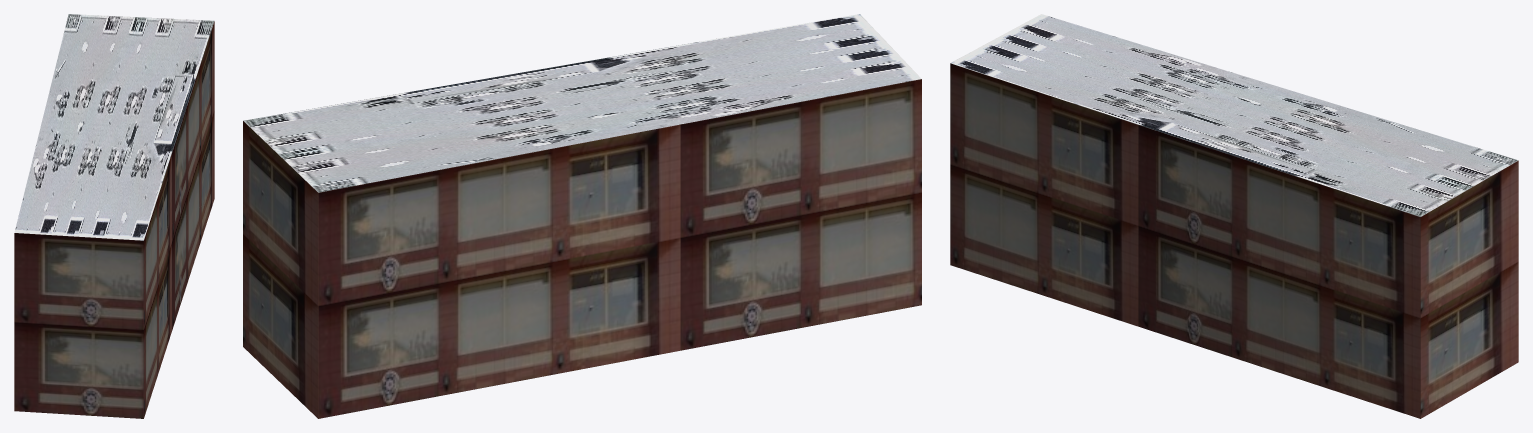
File: ResTex__4986.fbx
3 views of the same model, side by side, from view 1: azimuth 30°, elevation 25°; view 2: azimuth 150°, elevation 25°; view 3: azimuth 270°, elevation 25° (orthographic). The views are drawn at different scales.
Visible parts, largest first — view 1: CityEngineMaterial_13_m, CityEngineMaterial_4_m; view 2: CityEngineMaterial_13_m, CityEngineMaterial_4_m; view 3: CityEngineMaterial_13_m, CityEngineMaterial_4_m.
Boxes of the visible parts, x1=… form: CityEngineMaterial_13_m: x1=14, y1=21, x2=214, y2=418; CityEngineMaterial_4_m: x1=14, y1=14, x2=214, y2=240; CityEngineMaterial_13_m: x1=243, y1=79, x2=921, y2=418; CityEngineMaterial_4_m: x1=243, y1=14, x2=921, y2=192; CityEngineMaterial_13_m: x1=950, y1=63, x2=1518, y2=418; CityEngineMaterial_4_m: x1=950, y1=14, x2=1518, y2=216.
Size of the model in its own units: 12.95 by 6 by 15.32.
Materials: 2 (2 with a texture image).
